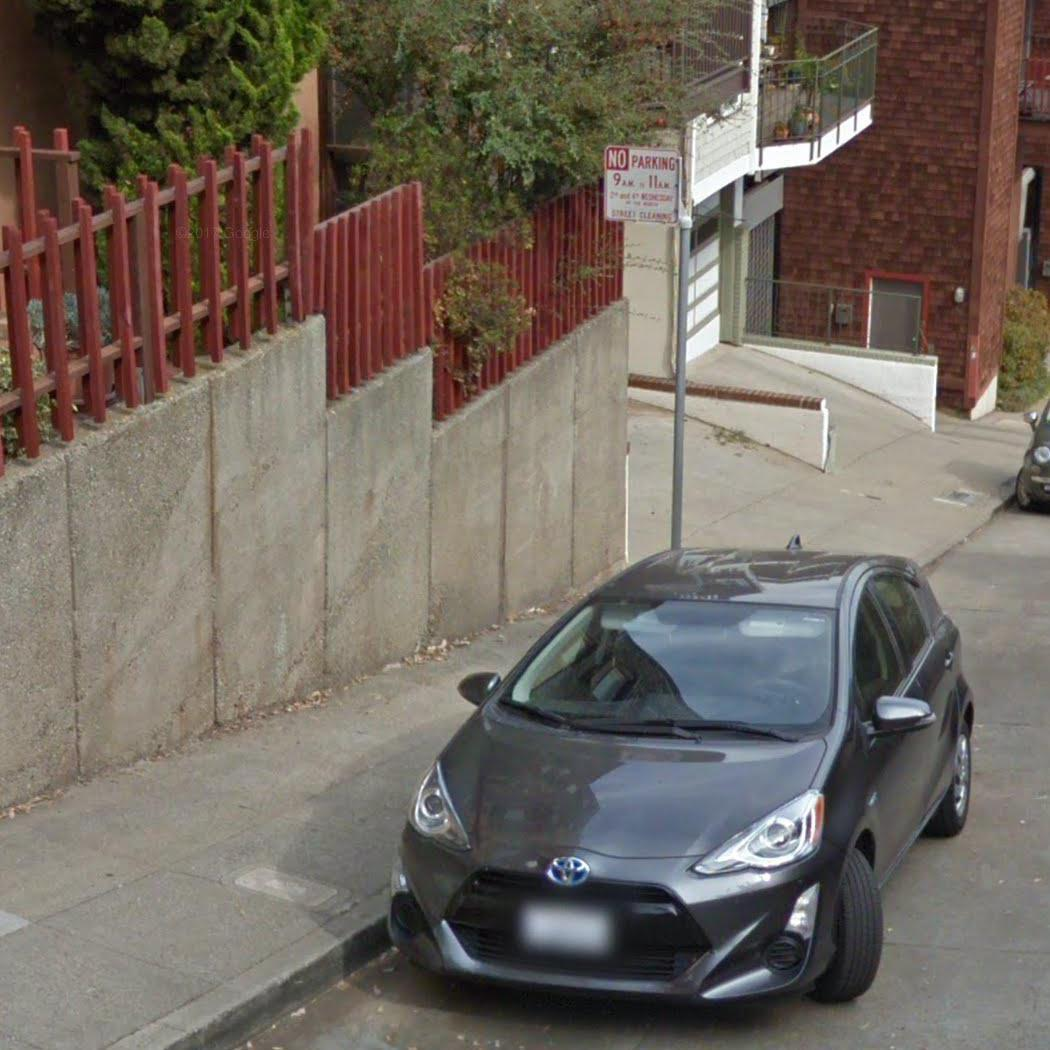No Parking: (600, 141, 687, 226)
